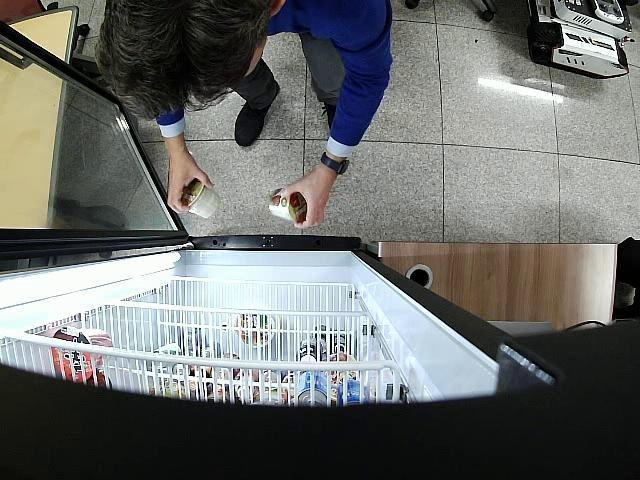04_chapagetti_S: (182, 176, 224, 219), (270, 188, 306, 223)
